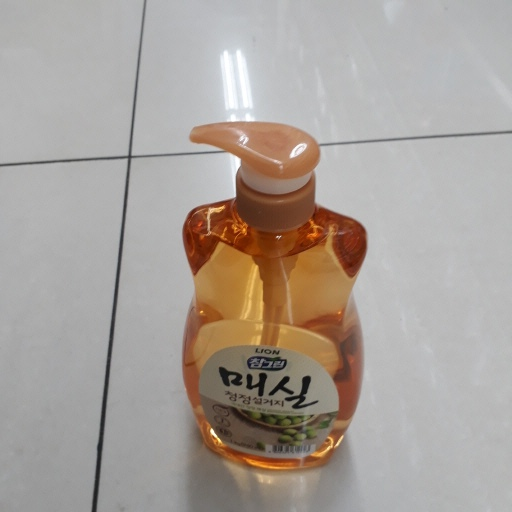Plastic_3: (174, 120, 367, 471)
